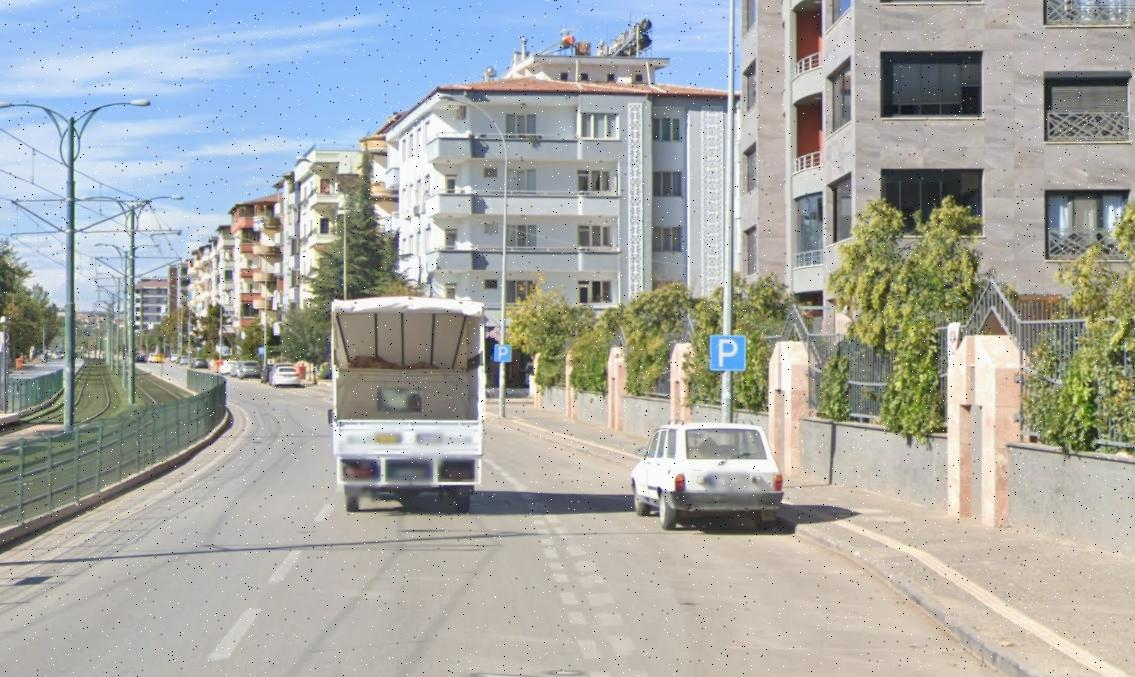park: (710, 334, 751, 375)
